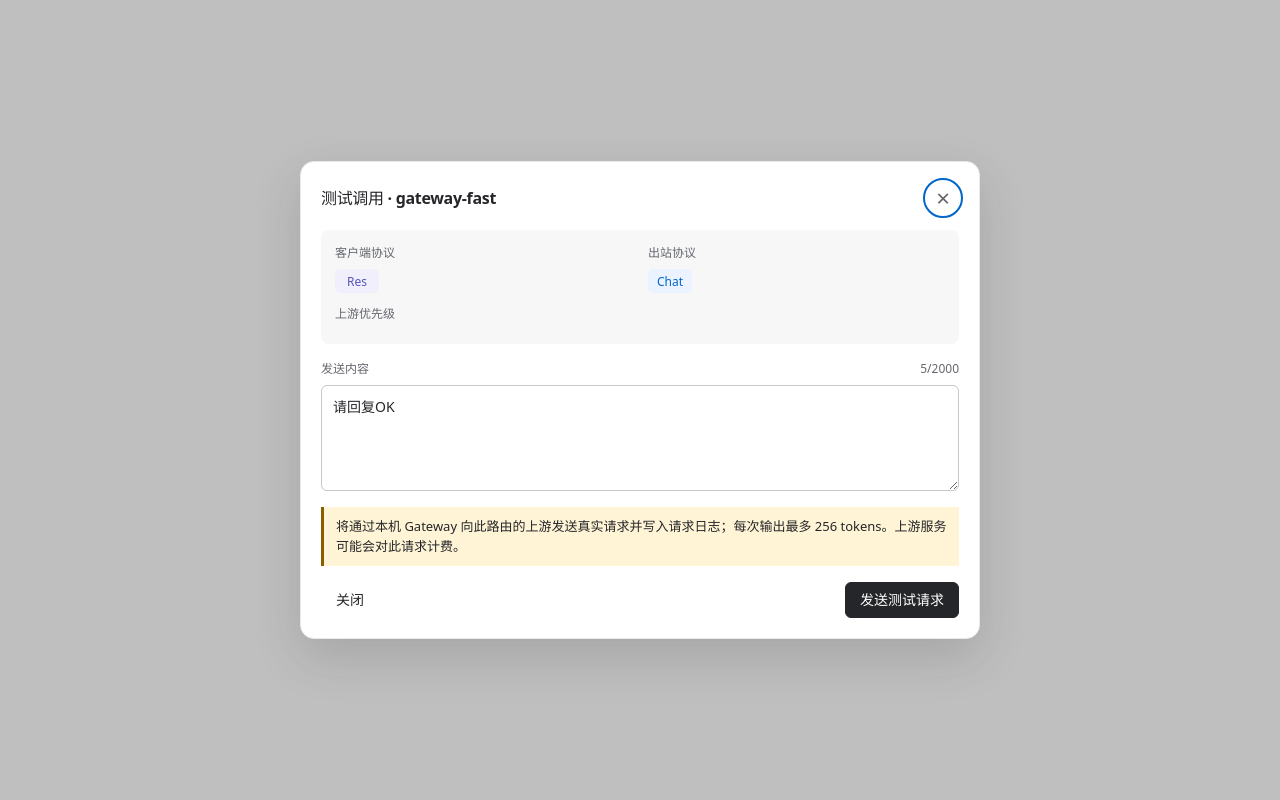
Test: RouteTestDialog › keeps failed request metadata available for log correlation
The width and height of the screenshot is (1280, 800).
Click the button "发送测试请求" at (902, 600), box [845, 582, 959, 618]
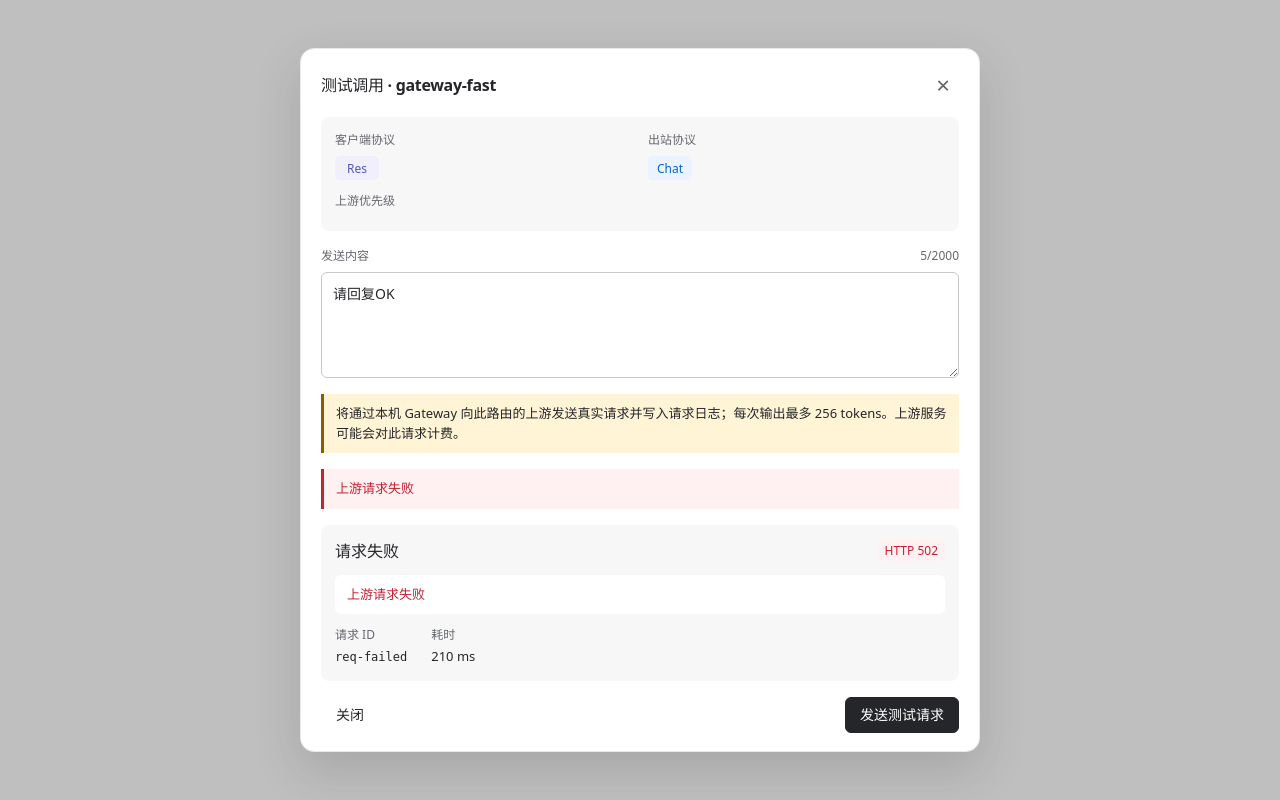
Check: the message "上游请求失败" is shown, box [321, 469, 959, 508]
Check: the text "req-failed" is shown, box [335, 650, 407, 664]
Check: the text "210 ms" is shown, box [431, 647, 475, 666]
